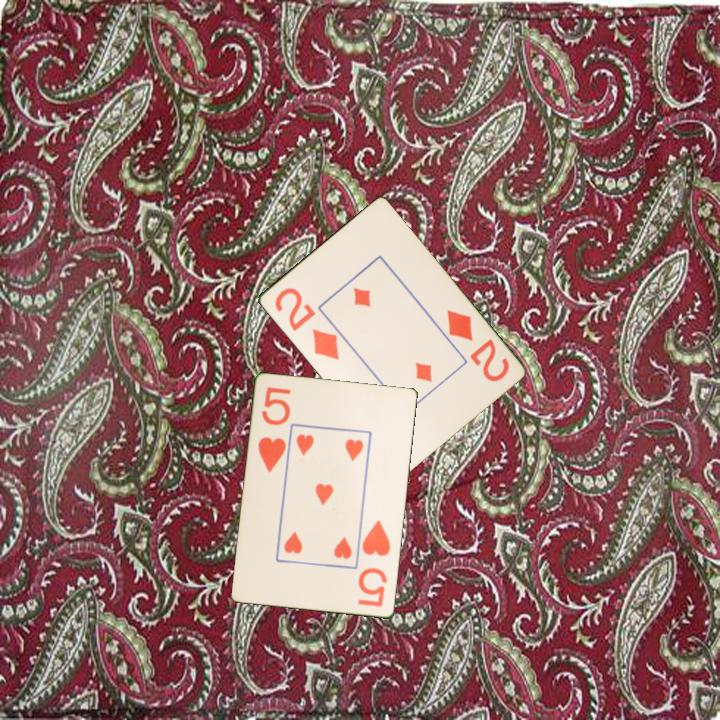2d: (270, 284, 342, 363), (443, 306, 512, 385)
5h: (354, 517, 393, 610), (255, 384, 294, 476)
